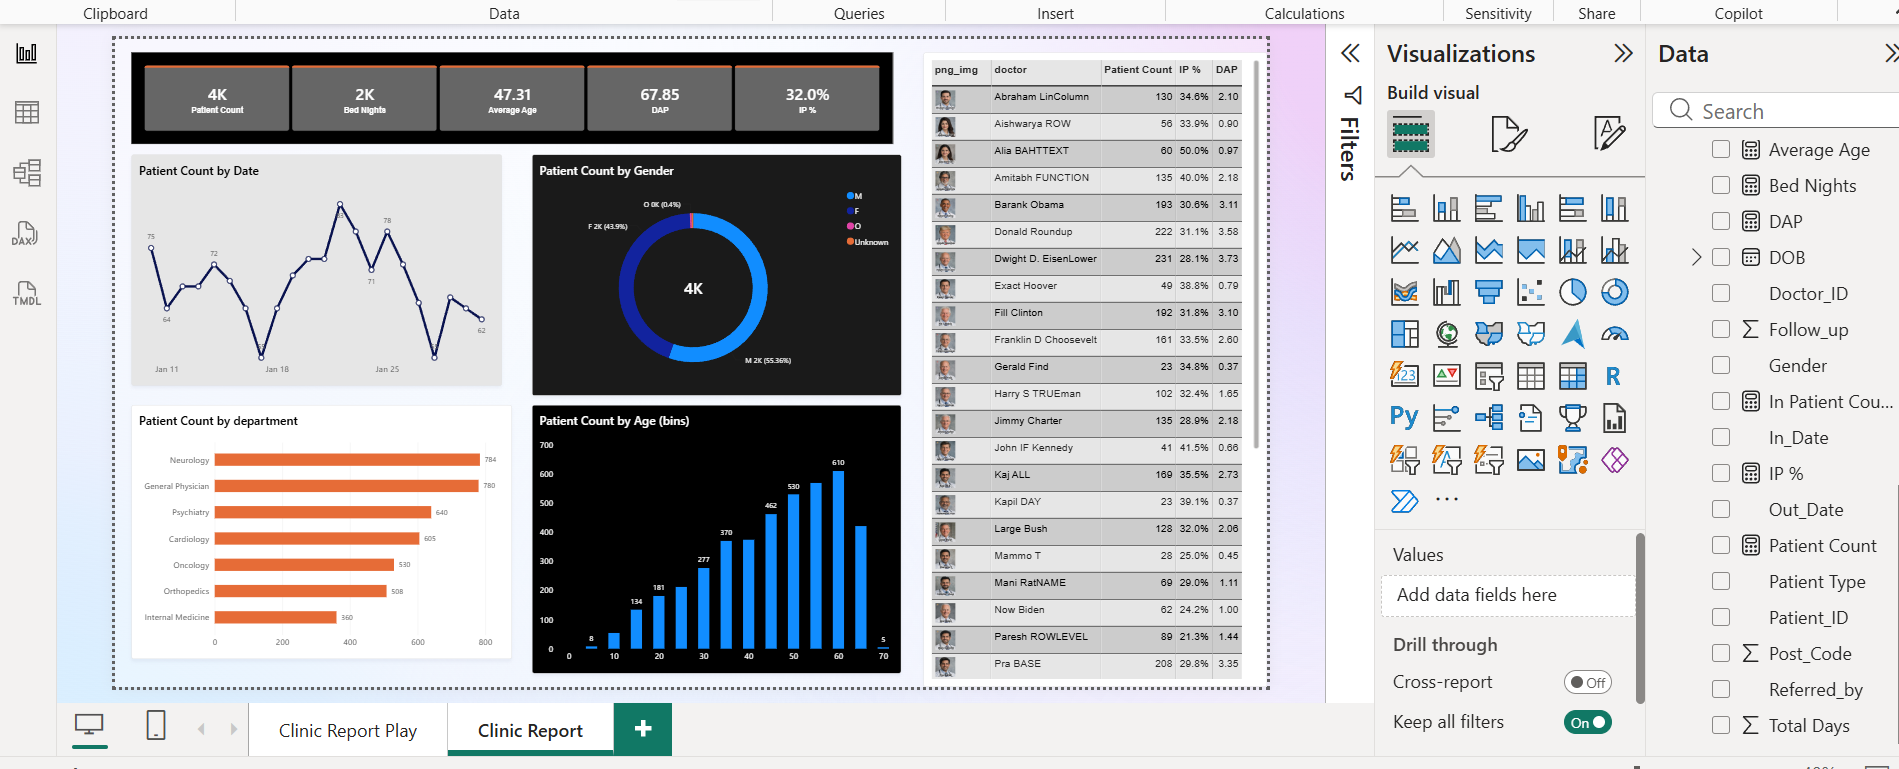

Layout of this report page (visuals, bound fields, positions):
{"tool":"powerbi","page":{"name":"Clinic Report","canvas":[1920,1080],"ordinal":1},"visuals":[{"type":"cardVisual","fields":{"Data":["patients.Patient Count","patients.Bed Nights","patients.Average Age","patients.DAP","patients.IP %"]},"box":[27.5,22.5,1270,152.5],"z":2000},{"type":"lineChart","fields":{"Category":["calendar.Date"],"Y":["patients.Patient Count"]},"box":[27.7,191.5,617,385.1],"z":2001},{"type":"barChart","fields":{"Category":["doctors.department"],"Y":["patients.Patient Count"]},"box":[27.7,610.6,634,423.4],"z":2002},{"type":"donutChart","fields":{"Category":["patients.Gender"],"Y":["patients.Patient Count"]},"box":[695,192.5,616,402],"z":2003},{"type":"columnChart","fields":{"Category":["patients.Age (bins)"],"Y":["patients.Patient Count"]},"box":[695,610,615,447.5],"z":2004},{"type":"tableEx","fields":{"Values":["doctors.png_img","doctors.doctor","patients.Patient Count","patients.IP %","patients.DAP"]},"box":[1347.5,22.5,572.5,1057.5],"z":2005}]}

Visuals, with their boxes on the page's 1920x1080 design canvas (x1, y1, x2, y2). These are canvas units, not pixel positions in the 1899x769 screenshot, which may show the page scaled, cropped or inside an application window:
cardVisual - patients.Patient Count x patients.Bed Nights: BBox(28, 22, 1298, 175)
lineChart - calendar.Date x patients.Patient Count: BBox(28, 192, 645, 577)
barChart - doctors.department x patients.Patient Count: BBox(28, 611, 662, 1034)
donutChart - patients.Gender x patients.Patient Count: BBox(695, 192, 1311, 594)
columnChart - patients.Age (bins) x patients.Patient Count: BBox(695, 610, 1310, 1058)
tableEx - doctors.png_img x doctors.doctor: BBox(1348, 22, 1920, 1080)
